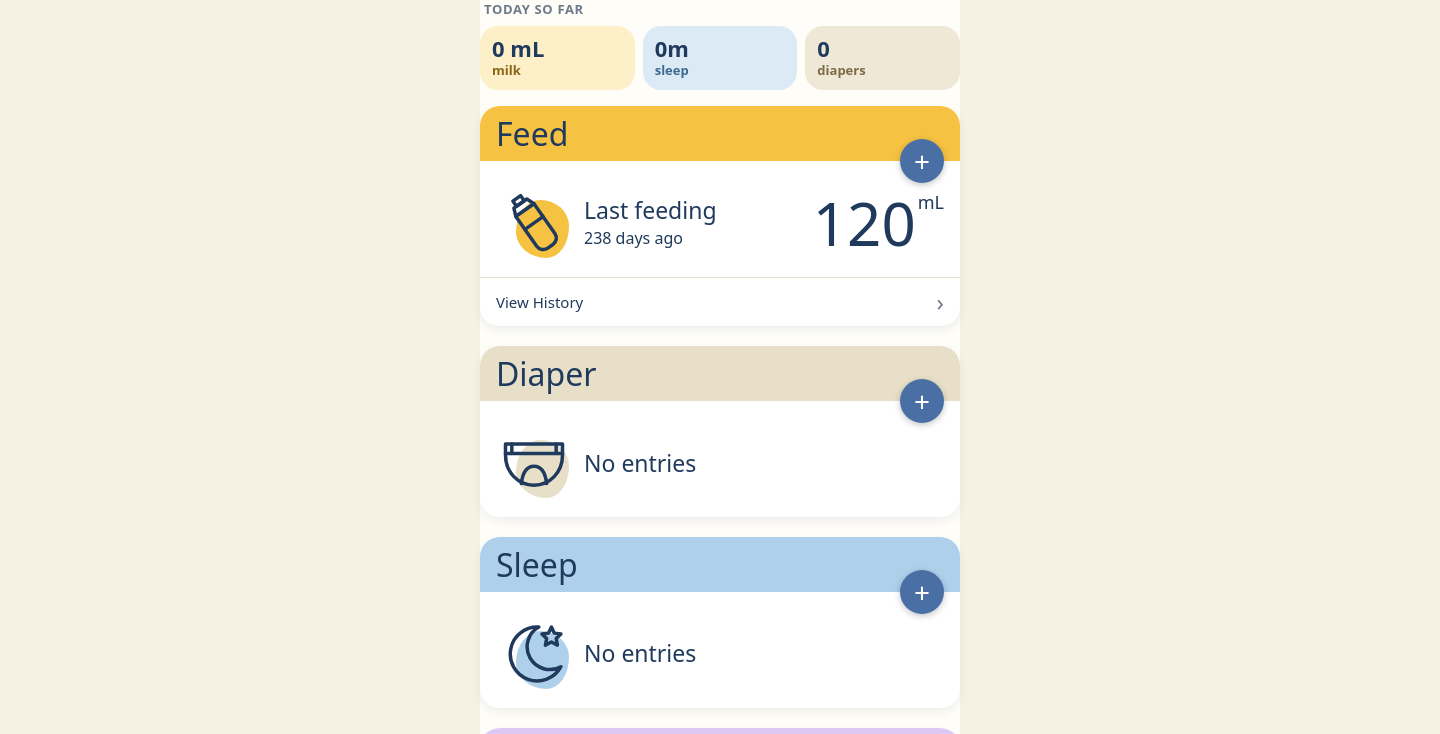
Scenario: ActivityPage › opens the feeding entry for edit when the primary entry is clicked, and deletes it
Click the text "Last feeding".
click(650, 210)  # box [584,196,717,224]
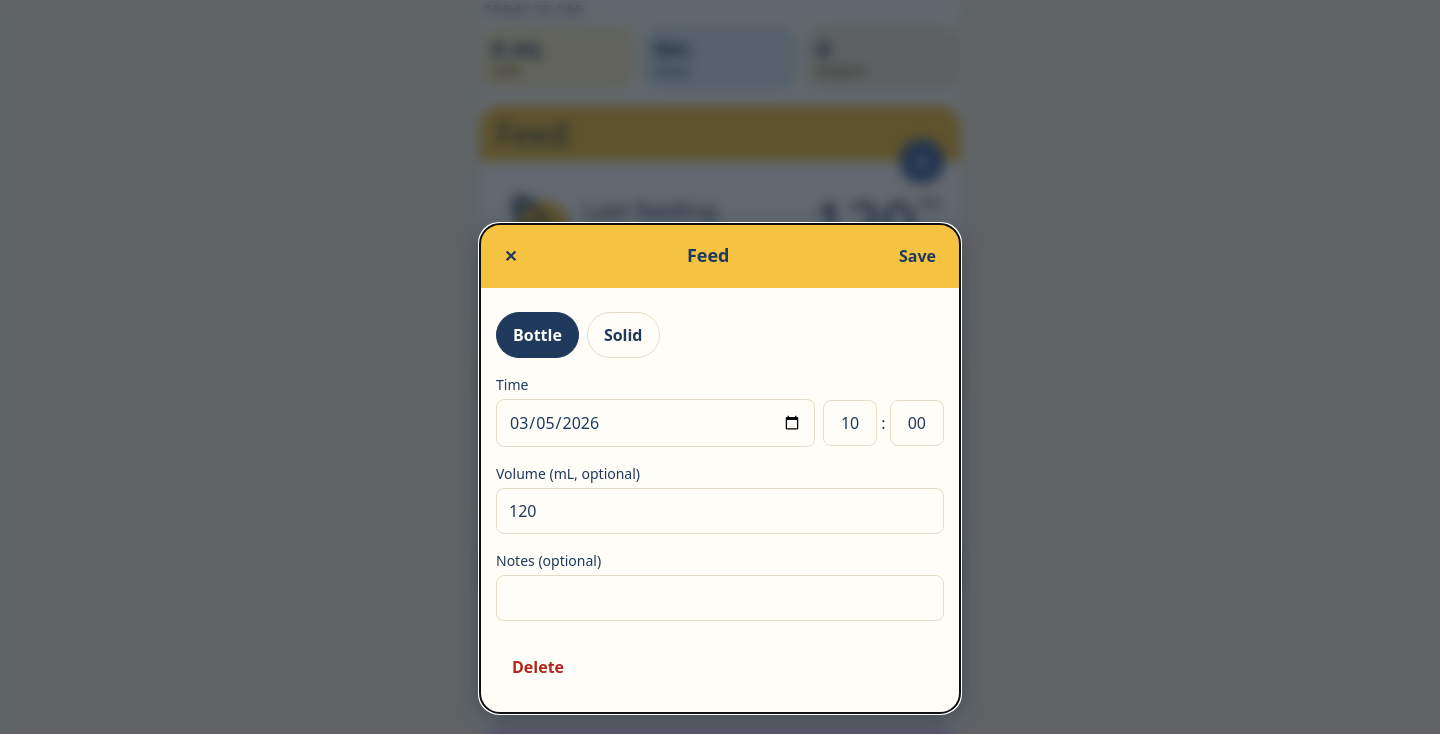
Expected: the dialog "Feed" is shown, [480,224,960,713]
Expected: the number field labelled "Volume (mL, optional)" holds "120", [496,488,944,534]
Click the button "Delete".
click(538, 667)  # box [496,645,580,689]
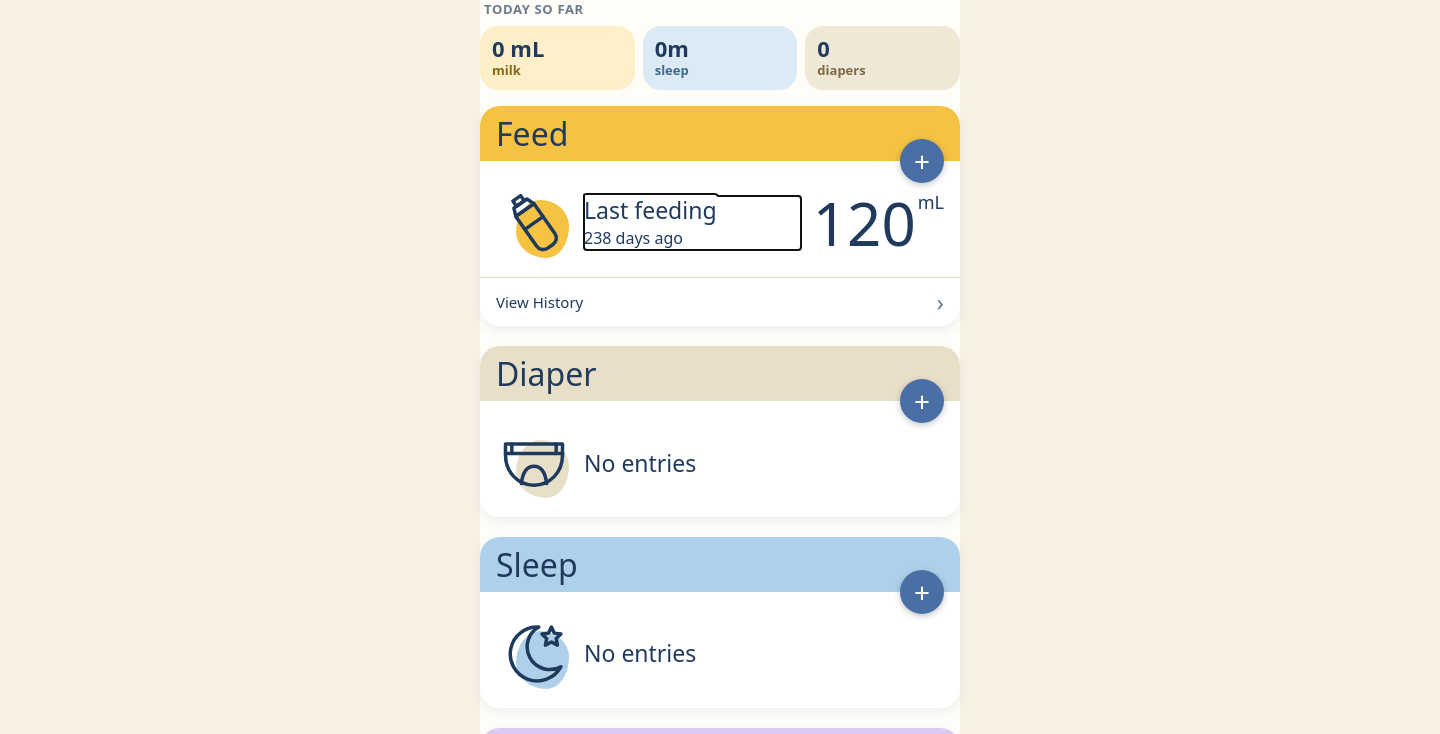
Expected: the dialog is gone
